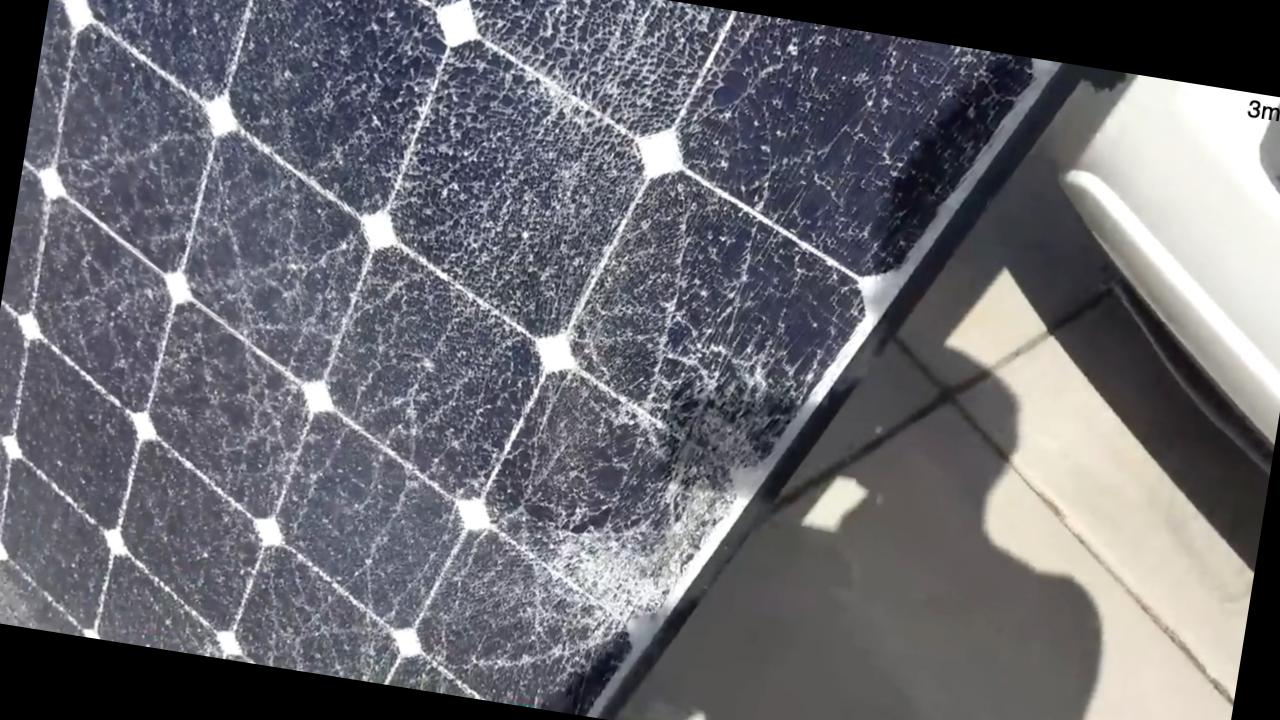Crack: (461, 288, 766, 636), (428, 0, 771, 275)
